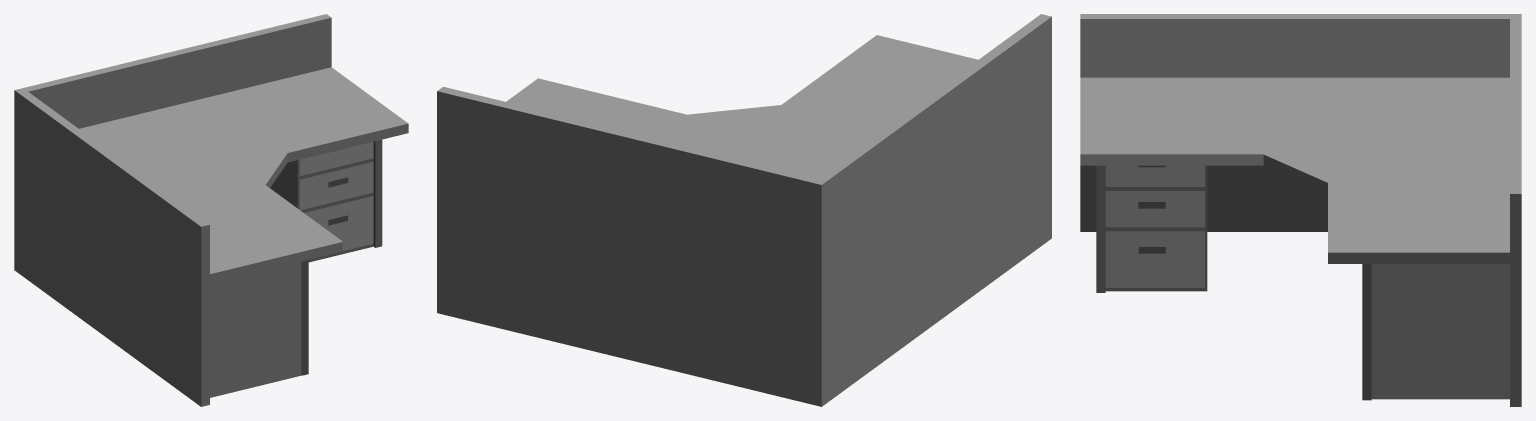
Rendered from SO_Desk_03.fbx.
The picture shows the model from 3 angles, left to right: view 1: azimuth 30°, elevation 25°; view 2: azimuth 150°, elevation 25°; view 3: azimuth 270°, elevation 25°; orthographic projection. The views are drawn at different scales.
Visible parts, largest first — view 1: SO_Desk_03; view 2: SO_Desk_03; view 3: SO_Desk_03.
Part boxes in pixels (x1,y1,x2,y2): SO_Desk_03: [14, 14, 408, 406]; SO_Desk_03: [437, 14, 1051, 406]; SO_Desk_03: [1080, 14, 1521, 406].
Size of the model in its own units: 3.94 by 2.17 by 4.08.
